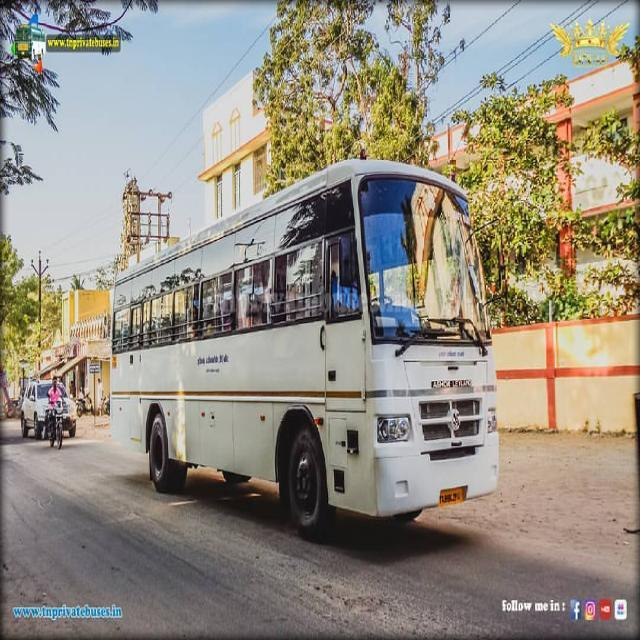Bus: (106, 154, 508, 566)
